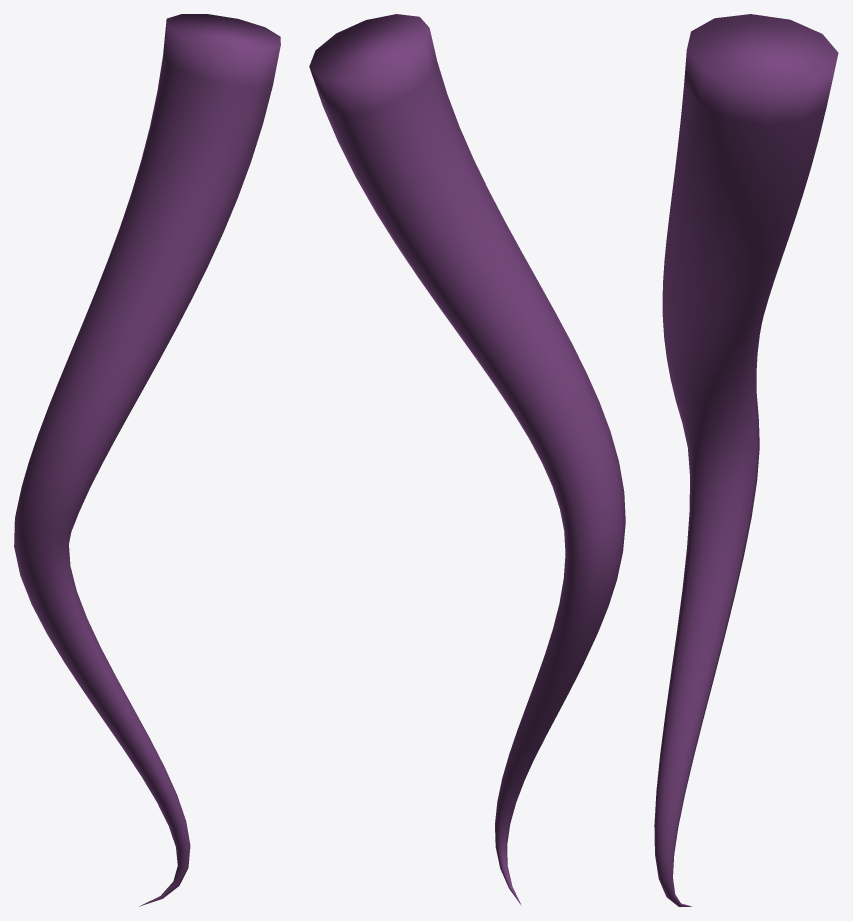
Rendered from tentaculle 1.fbx.
3 views of the same model, side by side, from view 1: azimuth 30°, elevation 25°; view 2: azimuth 150°, elevation 25°; view 3: azimuth 270°, elevation 25° (orthographic). The views are drawn at different scales.
Parts seen in each view (by area): view 1: tête.002; view 2: tête.002; view 3: tête.002.
Boxes of the visible parts, x1,y1,x2,y2 form: tête.002: (14,14,280,906); tête.002: (309,14,625,905); tête.002: (654,14,838,906).
Size of the model in its own units: 1.15 by 3.4 by 0.6081.
